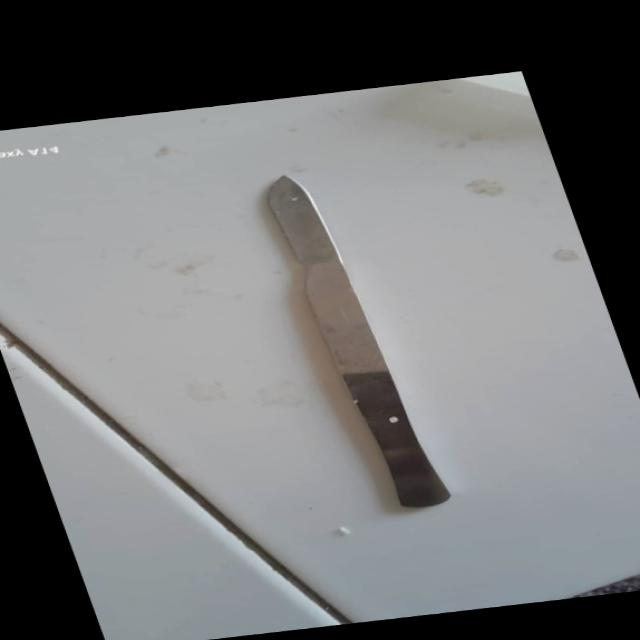Knife: (247, 169, 462, 520)
